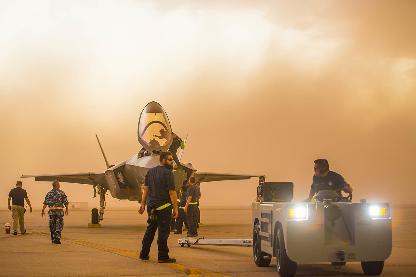F22: (20, 100, 266, 223)
